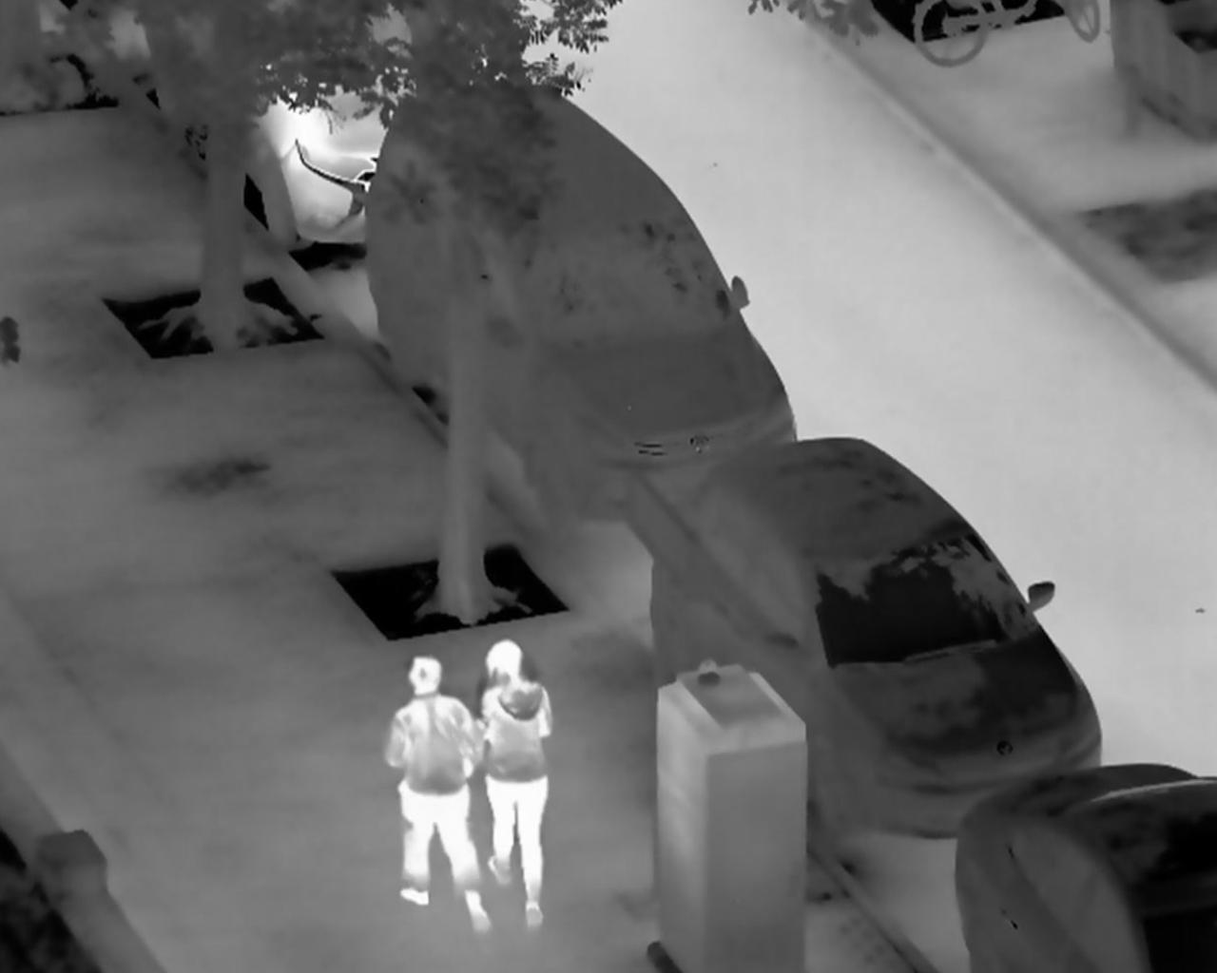person: (386, 653, 494, 936), (476, 637, 553, 930)
